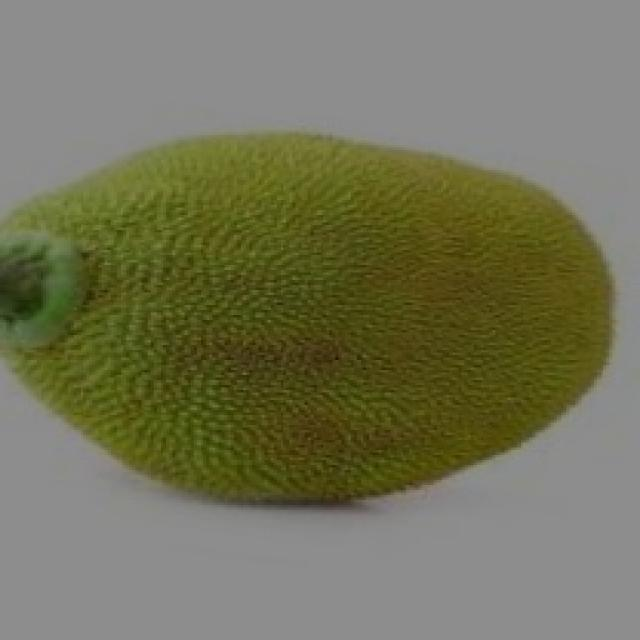Fruit: (268, 122, 637, 528)
